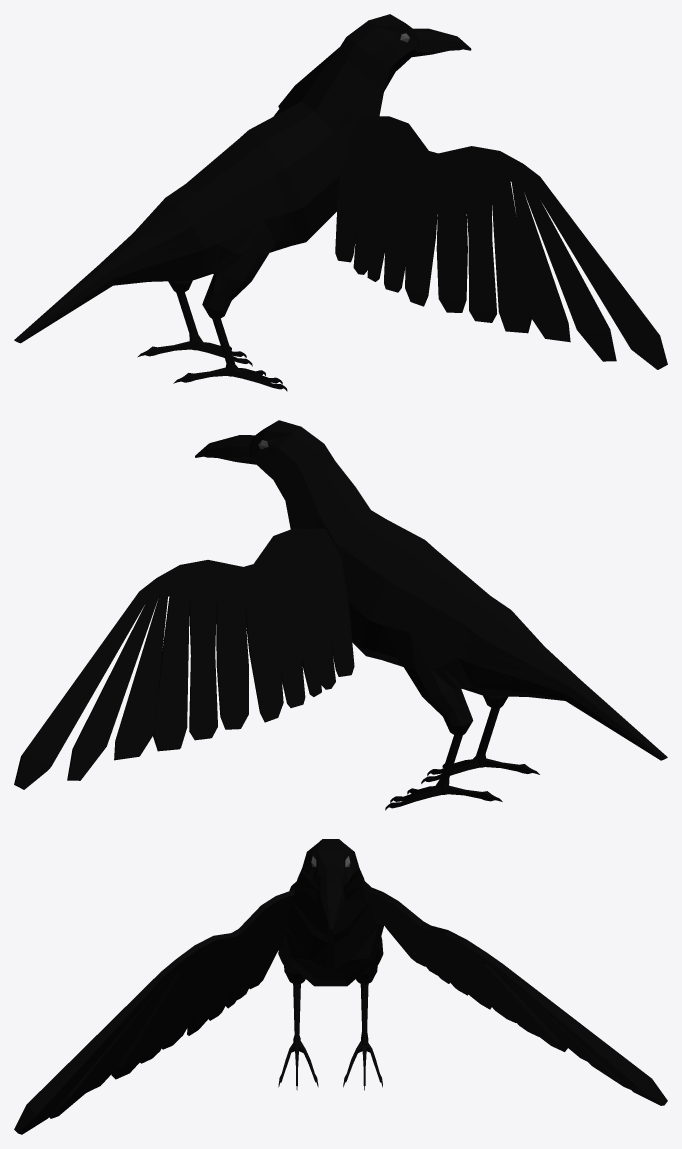
Rendered from crow_full_down_wings.obj.
3 renders of one model, top to bottom at view 1: azimuth 30°, elevation 25°; view 2: azimuth 150°, elevation 25°; view 3: azimuth 270°, elevation 25°, orthographic. The views are drawn at different scales.
Visible parts, largest first — view 1: Cylinder; view 2: Cylinder; view 3: Cylinder.
Part boxes in pixels (left/top/right/bottom): Cylinder: left=14, top=14, right=667, bottom=391; Cylinder: left=14, top=420, right=667, bottom=810; Cylinder: left=14, top=839, right=667, bottom=1134.
Size of the model in its own units: 1.63 by 1.02 by 2.
